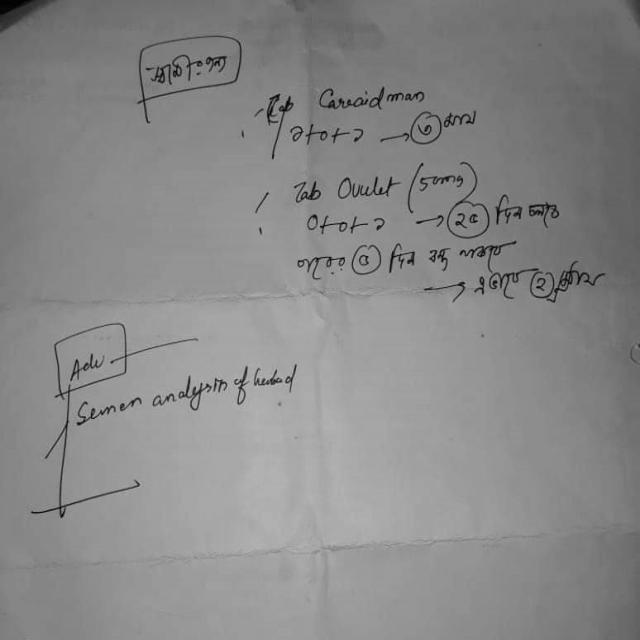medicine: (315, 81, 431, 115), (331, 167, 404, 204)
